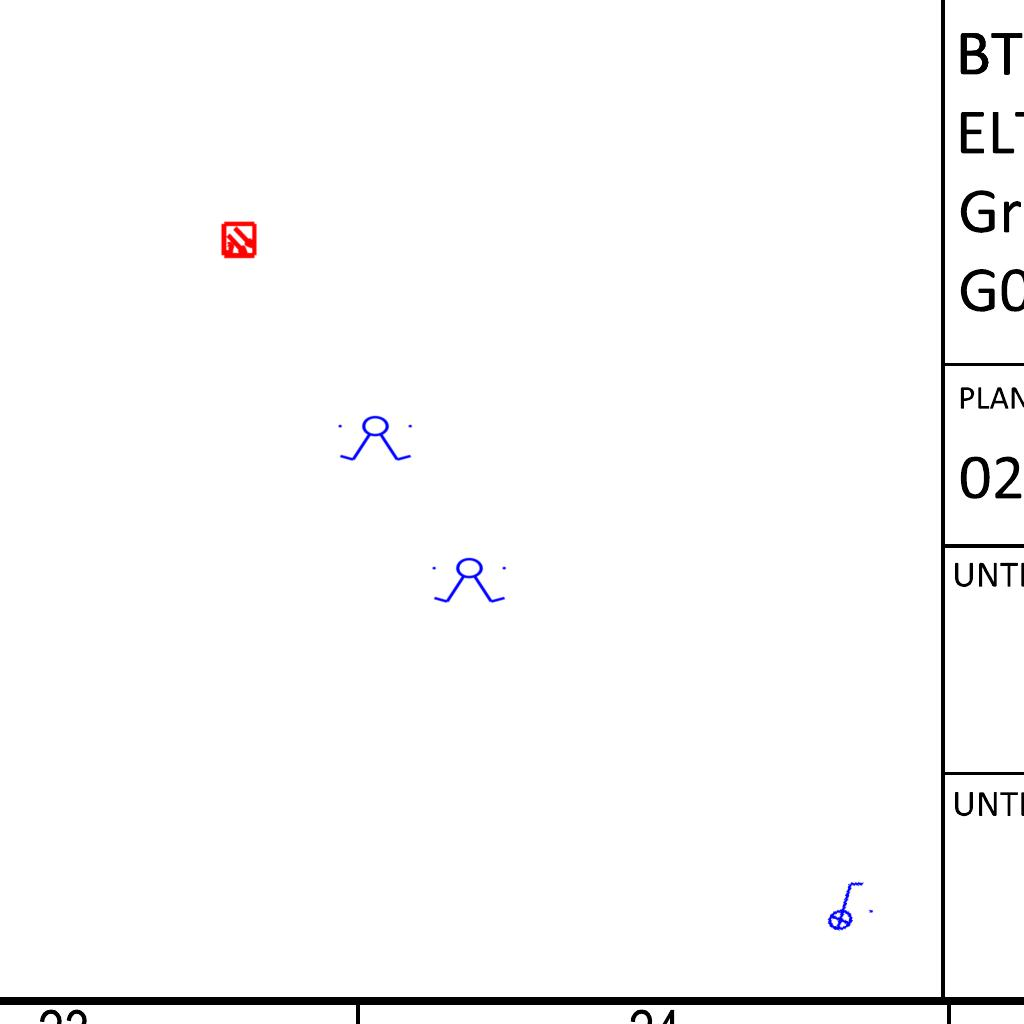Ausschalter_beleuchtet: (811, 874, 879, 936)
OT_Multisensormelder_(Kombination_RMO_WMD): (211, 213, 267, 269)
Serienschalter: (428, 557, 512, 605), (334, 415, 418, 463)
